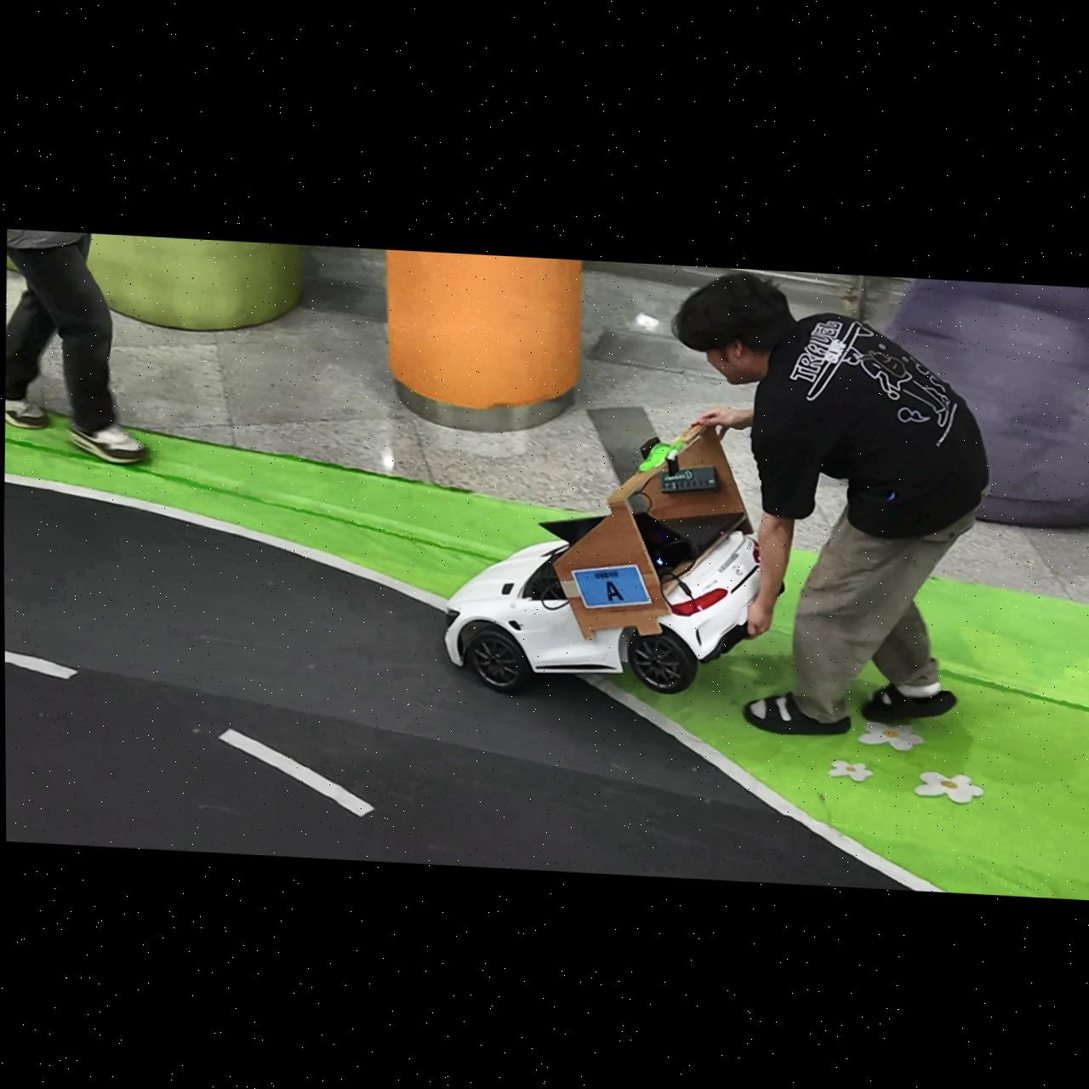broken_line: (219, 729, 374, 816), (5, 651, 77, 679)
